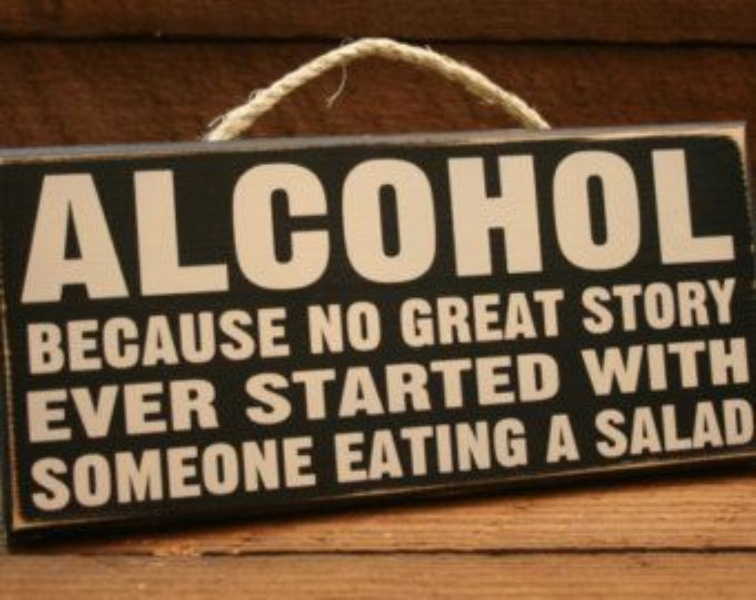text: (49, 141, 64, 305), (65, 141, 80, 305), (81, 141, 96, 305), (97, 141, 112, 305), (113, 141, 128, 305), (129, 141, 144, 305), (145, 141, 160, 305), (161, 141, 176, 305), (177, 141, 192, 305), (193, 141, 208, 305), (209, 141, 224, 305), (225, 141, 240, 305), (241, 141, 256, 305), (257, 141, 272, 305), (273, 141, 288, 305), (289, 141, 304, 305), (305, 141, 320, 305), (321, 141, 336, 305), (337, 141, 352, 305), (353, 141, 368, 305), (369, 141, 384, 305), (385, 141, 400, 305), (401, 141, 416, 305), (417, 141, 432, 305), (433, 141, 448, 305), (449, 141, 464, 305), (465, 141, 480, 305), (481, 141, 496, 305), (497, 141, 512, 305), (513, 141, 528, 305), (529, 141, 544, 305), (545, 141, 560, 305), (561, 141, 576, 305), (577, 141, 592, 305), (593, 141, 608, 305), (609, 141, 624, 305), (625, 141, 640, 305), (641, 141, 656, 305), (657, 141, 672, 305), (673, 141, 688, 305), (689, 141, 704, 305), (705, 141, 720, 305), (721, 141, 736, 305), (241, 345, 256, 427), (257, 345, 272, 427), (273, 345, 288, 427), (289, 345, 304, 427), (305, 345, 320, 427), (321, 345, 336, 427), (337, 345, 352, 427), (353, 345, 368, 427), (369, 345, 384, 427), (385, 345, 400, 427), (401, 345, 416, 427), (417, 345, 432, 427), (433, 345, 448, 427), (449, 345, 464, 427), (465, 345, 480, 427), (481, 345, 496, 427), (497, 345, 512, 427), (513, 345, 528, 427), (529, 345, 544, 427), (545, 345, 560, 427), (33, 432, 48, 514), (49, 432, 64, 514), (65, 432, 80, 514), (81, 432, 96, 514), (97, 432, 112, 514), (113, 432, 128, 514), (129, 432, 144, 514), (145, 432, 160, 514), (161, 432, 176, 514), (177, 432, 192, 514), (193, 432, 208, 514), (209, 432, 224, 514), (225, 432, 240, 514), (241, 432, 256, 514), (257, 432, 272, 514), (273, 432, 288, 514), (289, 432, 304, 514), (41, 141, 48, 305), (33, 303, 48, 376), (49, 303, 64, 376), (65, 303, 80, 376), (81, 303, 96, 376), (97, 303, 112, 376), (113, 303, 128, 376), (129, 303, 144, 376), (145, 303, 160, 376), (161, 303, 176, 376), (177, 303, 192, 376), (193, 303, 208, 376), (209, 303, 224, 376), (225, 303, 240, 376), (241, 303, 256, 376), (257, 303, 272, 376), (273, 303, 288, 376), (337, 414, 352, 485), (353, 414, 368, 485), (369, 414, 384, 485), (385, 414, 400, 485), (401, 414, 416, 485), (417, 414, 432, 485), (433, 414, 448, 485), (449, 414, 464, 485), (465, 414, 480, 485), (481, 414, 496, 485), (497, 414, 512, 485), (513, 414, 528, 485), (33, 376, 48, 443), (49, 376, 64, 443), (65, 376, 80, 443), (81, 376, 96, 443), (97, 376, 112, 443), (113, 376, 128, 443), (129, 376, 144, 443), (145, 376, 160, 443), (161, 376, 176, 443), (177, 376, 192, 443), (193, 376, 208, 443), (593, 396, 608, 461), (609, 396, 624, 461), (625, 396, 640, 461), (641, 396, 656, 461), (657, 396, 672, 461), (673, 396, 688, 461), (689, 396, 704, 461), (705, 396, 720, 461), (721, 396, 736, 461), (737, 396, 752, 461), (401, 287, 416, 349), (417, 287, 432, 349), (433, 287, 448, 349), (449, 287, 464, 349), (465, 287, 480, 349), (481, 287, 496, 349), (497, 287, 512, 349), (513, 287, 528, 349), (529, 287, 544, 349), (545, 287, 560, 349), (577, 276, 592, 338), (593, 276, 608, 338), (609, 276, 624, 338), (625, 276, 640, 338), (641, 276, 656, 338), (657, 276, 672, 338), (673, 276, 688, 338), (689, 276, 704, 338), (705, 276, 720, 338), (721, 276, 736, 338), (593, 334, 608, 396), (609, 334, 624, 396), (625, 334, 640, 396), (641, 334, 656, 396), (657, 334, 672, 396), (673, 334, 688, 396), (689, 334, 704, 396), (705, 334, 720, 396), (721, 334, 736, 396), (305, 432, 316, 514), (321, 298, 336, 356), (337, 298, 352, 356), (353, 298, 368, 356), (561, 409, 576, 465), (369, 298, 383, 356), (579, 334, 592, 396), (737, 334, 750, 396), (209, 376, 221, 443), (307, 298, 320, 356), (21, 376, 32, 443), (547, 409, 560, 465), (561, 287, 568, 349), (27, 432, 32, 514), (27, 303, 32, 376), (577, 409, 583, 465), (737, 141, 739, 305), (332, 414, 336, 485), (396, 287, 400, 349), (289, 303, 292, 376), (561, 345, 563, 427), (590, 396, 592, 461), (737, 276, 739, 338), (529, 414, 530, 485), (753, 396, 754, 461)
